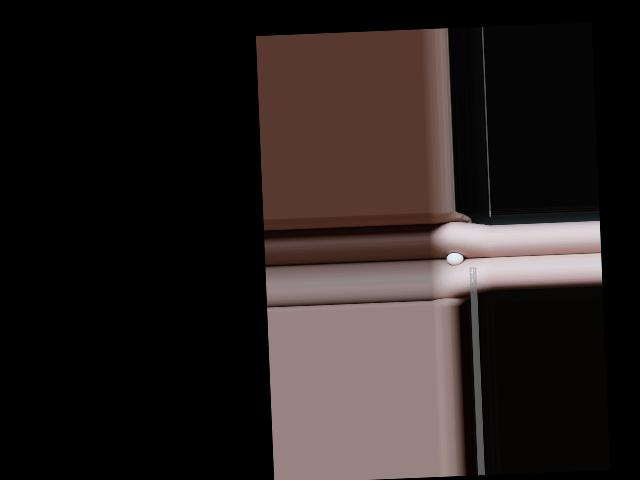egg: (446, 252, 464, 265)
